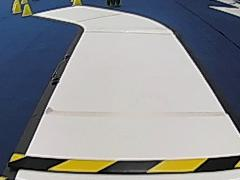bump: (2, 150, 239, 177)
